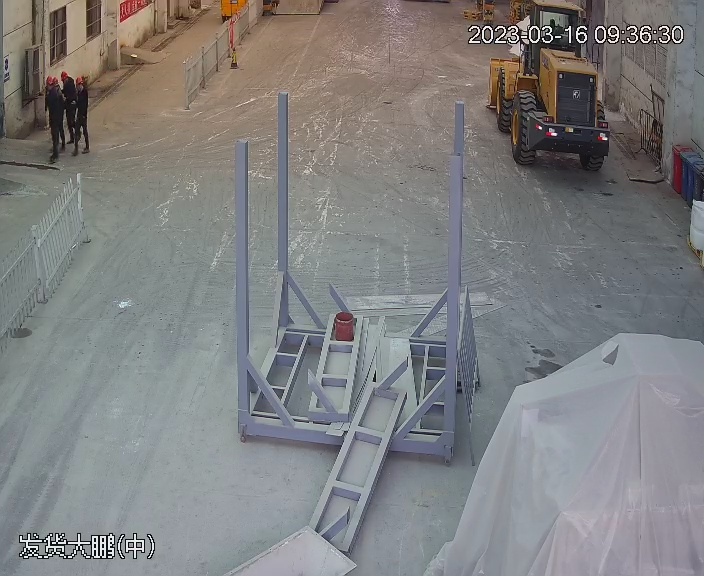head: (45, 74, 63, 98), (56, 69, 74, 92), (75, 76, 88, 98)
helmet: (74, 74, 84, 85), (46, 74, 57, 83), (59, 70, 69, 79)
people: (44, 72, 72, 154), (58, 70, 76, 144), (74, 75, 90, 154)
